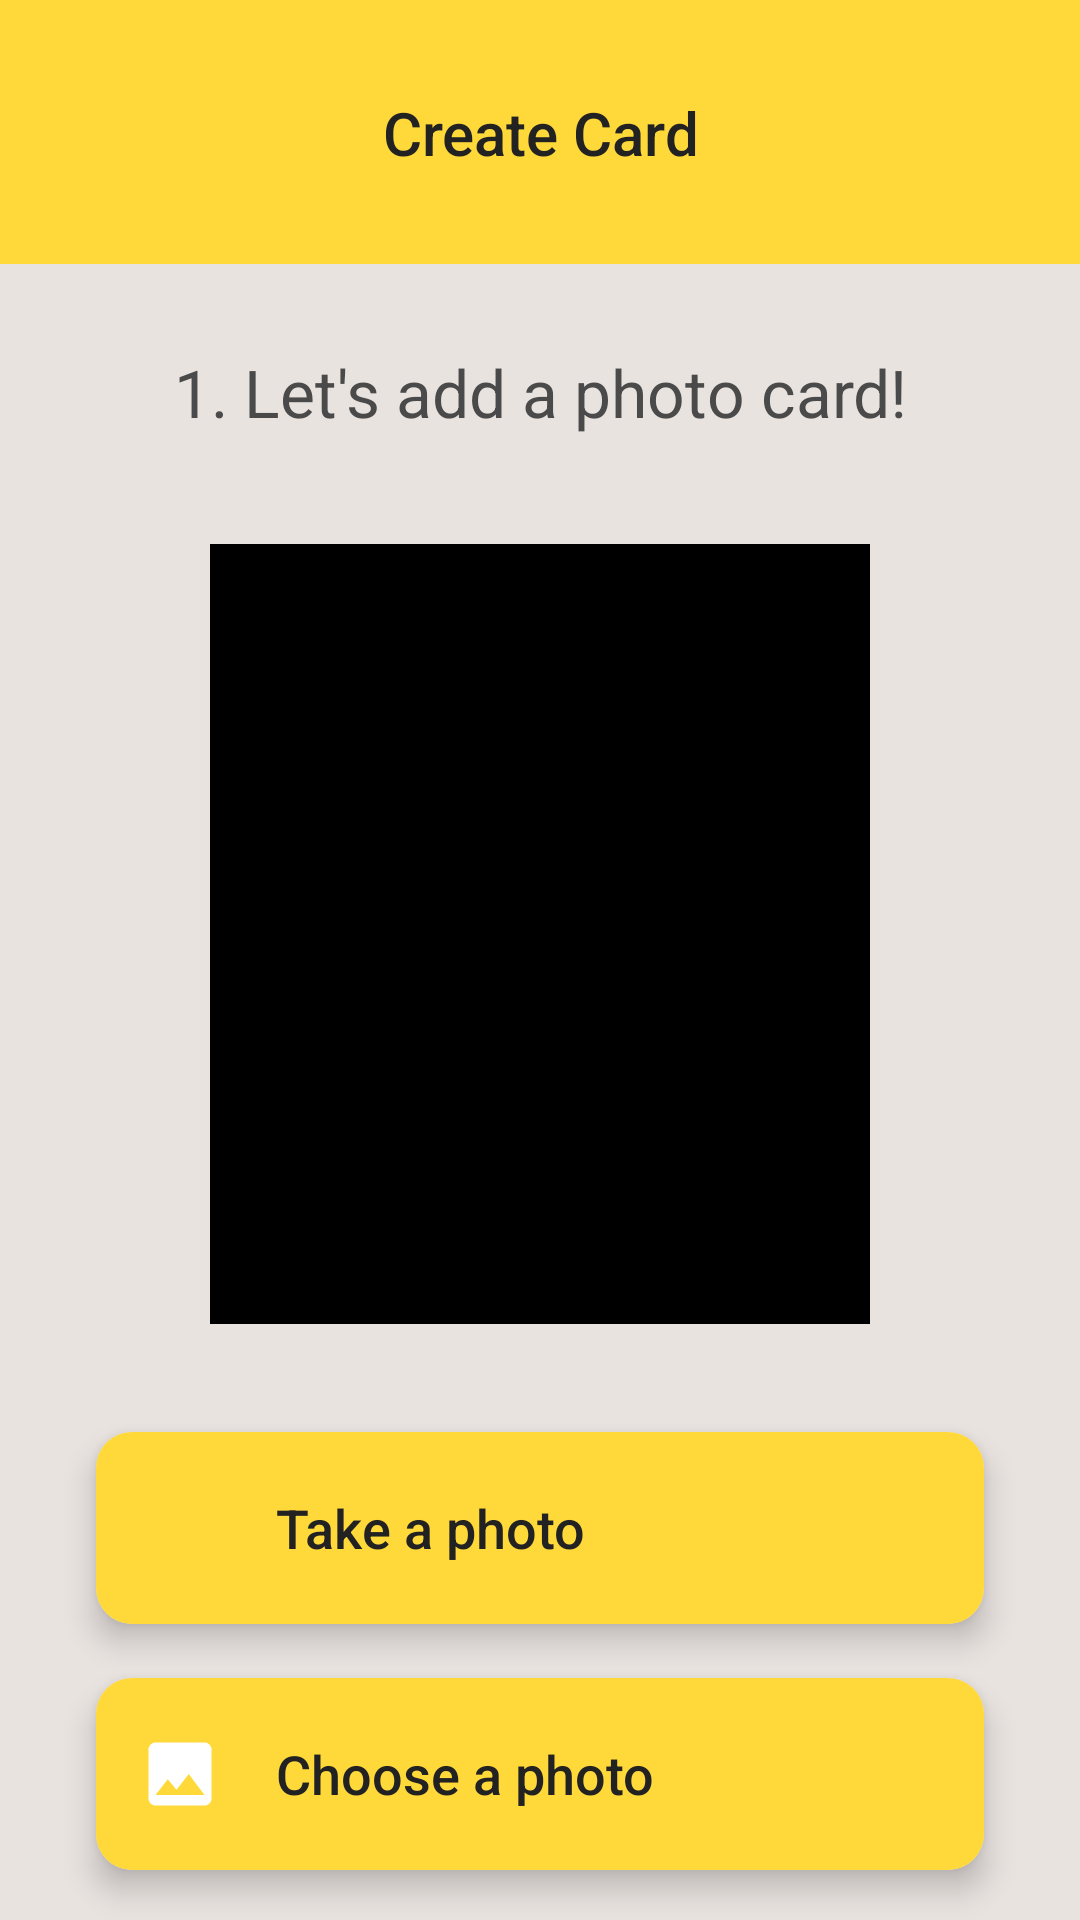

Named icons in this screenshot (1080w x 1920h) and their centers, point (x, y):
gallery: point (180, 1774)
